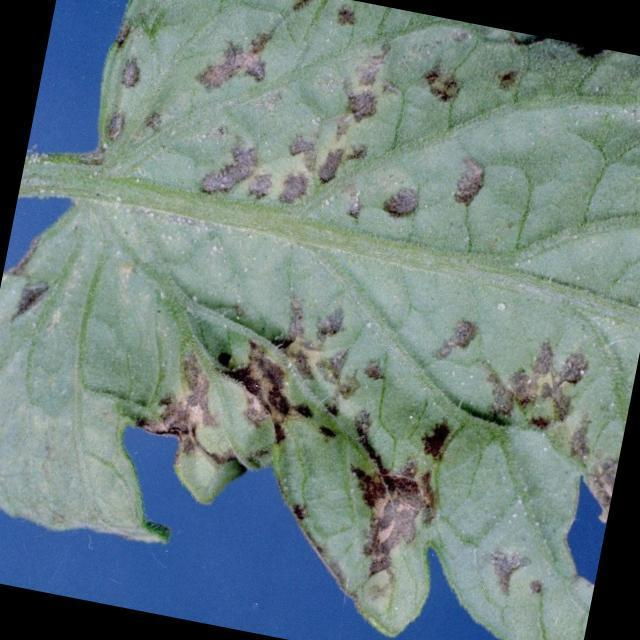Bacterial Spot: (141, 256, 635, 519), (94, 0, 585, 263), (337, 476, 563, 620)
